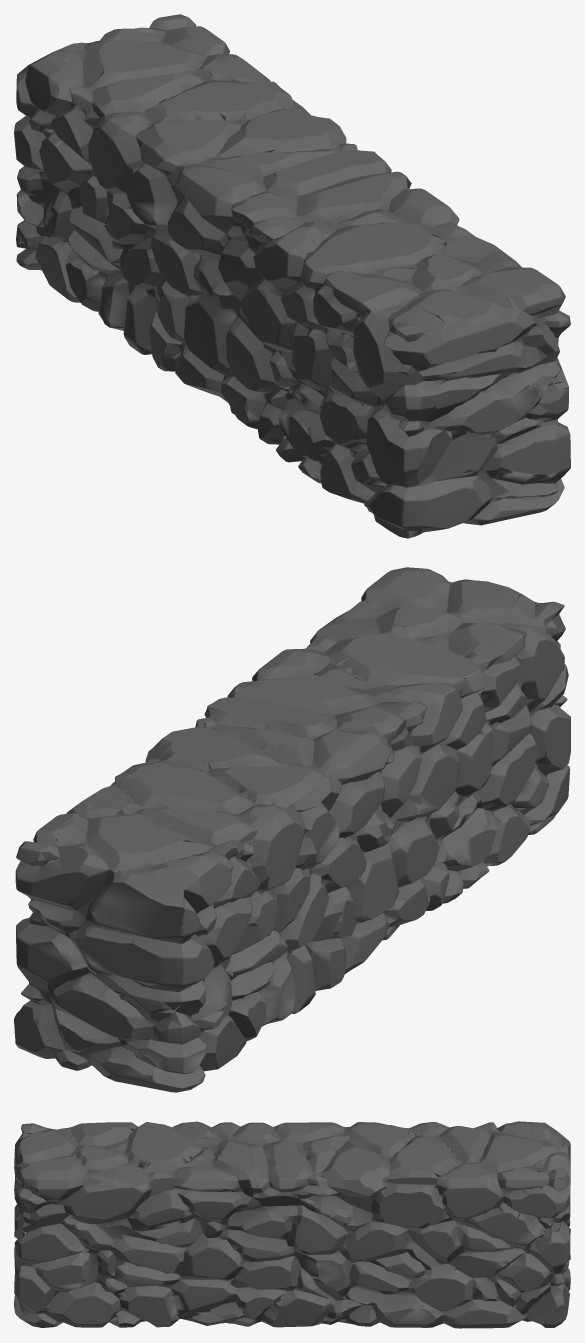
The model's file is Rockwall1.fbx.
3 renders of one model, top to bottom at view 1: azimuth 30°, elevation 25°; view 2: azimuth 150°, elevation 25°; view 3: azimuth 270°, elevation 25°, orthographic. The views are drawn at different scales.
Parts seen in each view (by area): view 1: Cube.001; view 2: Cube.001; view 3: Cube.001.
Part boxes in pixels (x1,y1,x2,y2): Cube.001: [14, 14, 570, 538]; Cube.001: [14, 567, 570, 1092]; Cube.001: [14, 1121, 570, 1328].
Bounding box in the file's own units: 5044 × 5672 × 18465.
1 material, 1 textured.
